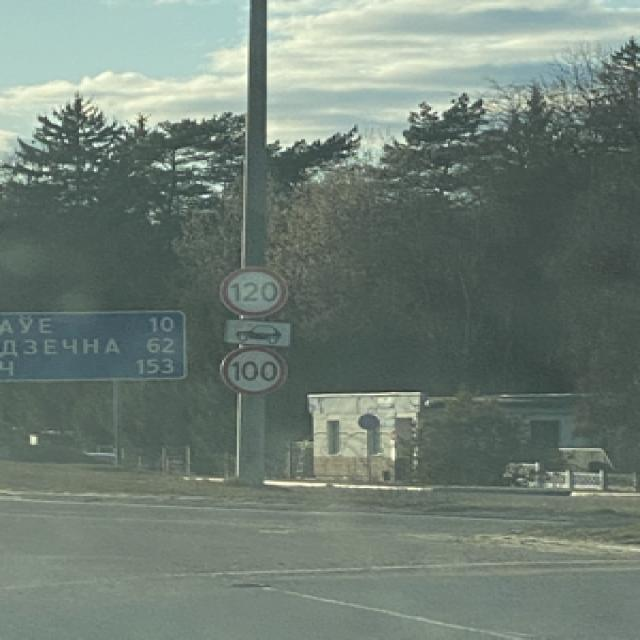speedlimit: (218, 264, 284, 315), (216, 344, 280, 394)
